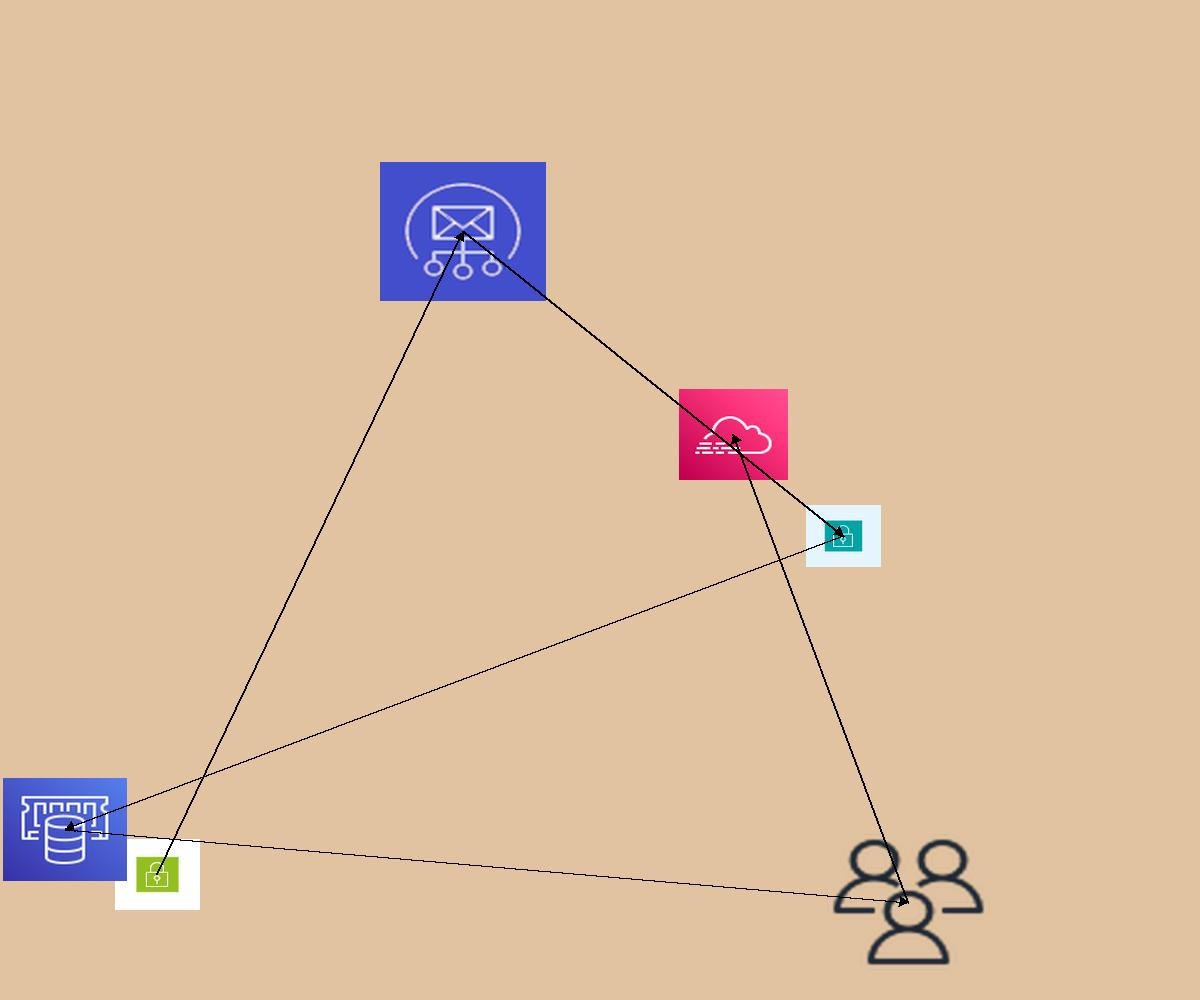AWS-CloudTrail: (679, 389, 788, 480)
AWS-ElastiCache: (3, 778, 127, 881)
AWS-Private-subnet: (806, 505, 881, 567)
AWS-Public-subnet: (115, 839, 200, 910)
AWS-Res_Users: (827, 834, 990, 970)
AWS-Simple-Email-Service: (380, 162, 546, 301)
